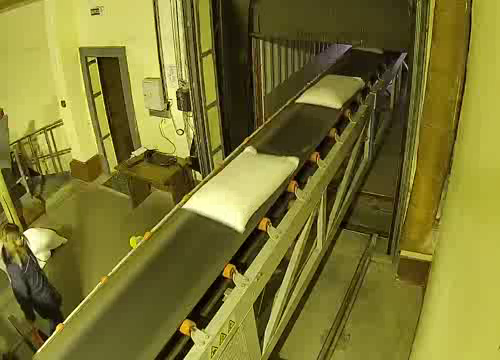bag: (169, 138, 314, 240), (290, 70, 370, 118), (350, 43, 389, 58)
